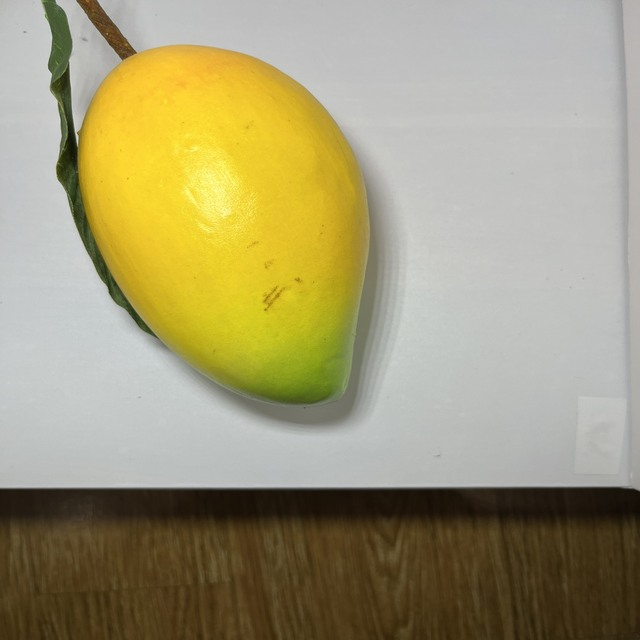Xoai: (71, 44, 385, 416)
